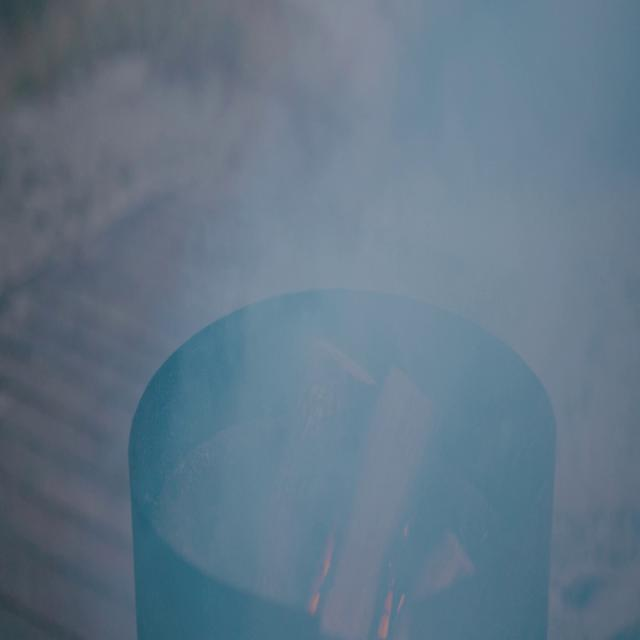Smoke: (90, 3, 640, 640)
